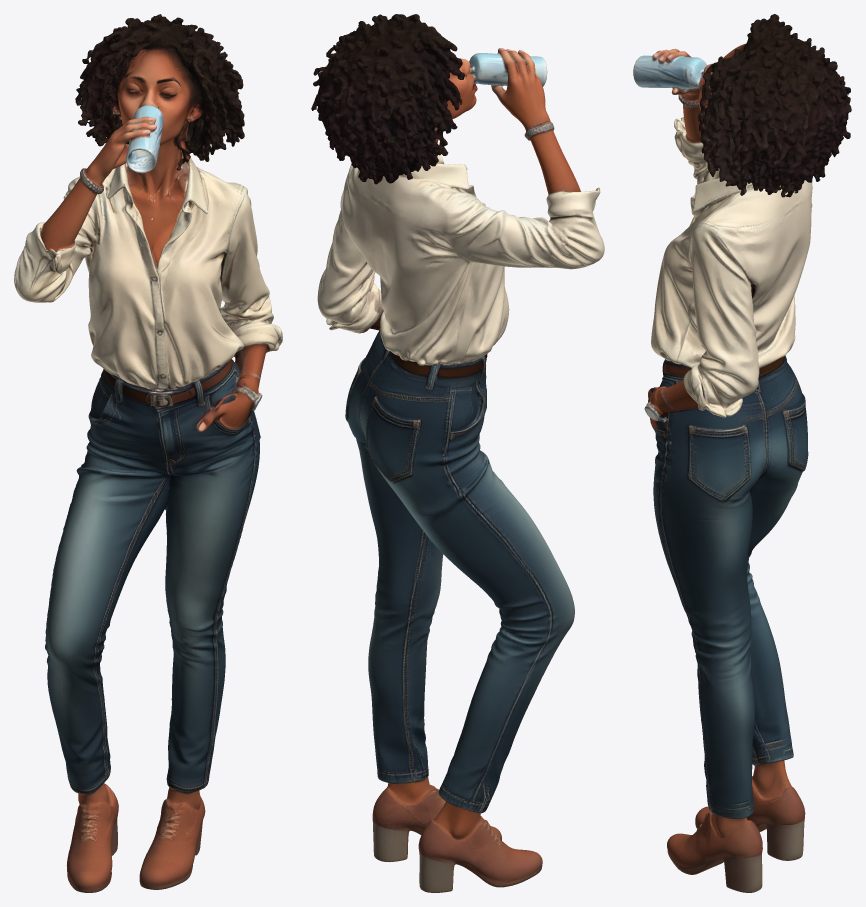
Rendered from Black lady drinking-2.glb.
The picture shows the model from 3 angles, left to right: view 1: azimuth 30°, elevation 25°; view 2: azimuth 150°, elevation 25°; view 3: azimuth 270°, elevation 25°; orthographic projection. The views are drawn at different scales.
Visible parts, largest first — view 1: mesh_node; view 2: mesh_node; view 3: mesh_node.
Part boxes in pixels (left/top/right/bottom): mesh_node: left=14, top=14, right=282, bottom=892; mesh_node: left=311, top=14, right=604, bottom=892; mesh_node: left=633, top=14, right=851, bottom=892.
Size of the model in its own units: 0.627 by 1.9 by 0.4415.
Materials: 1 (1 with a texture image).
